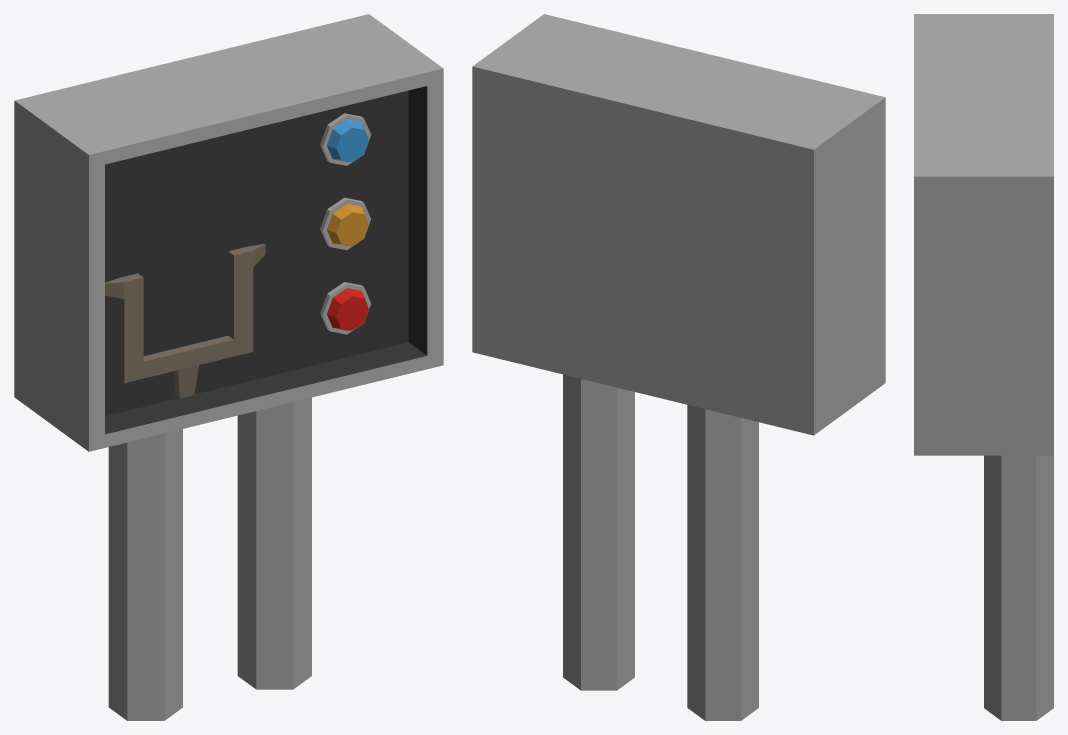
File: steampunk_panel.fbx
3 renders of one model, left to right at view 1: azimuth 30°, elevation 25°; view 2: azimuth 150°, elevation 25°; view 3: azimuth 270°, elevation 25°, orthographic. The views are drawn at different scales.
Visible parts, largest first — view 1: Cube.052, Cube.053; view 2: Cube.052; view 3: Cube.052.
Boxes of the visible parts, box(x1,y1,x2,y2) form: Cube.052: box(14, 14, 443, 720); Cube.053: box(105, 243, 265, 398); Cube.052: box(472, 14, 885, 720); Cube.052: box(914, 14, 1053, 720).
Bounding box in the file's own units: 1.1 × 1.84 × 0.4.
